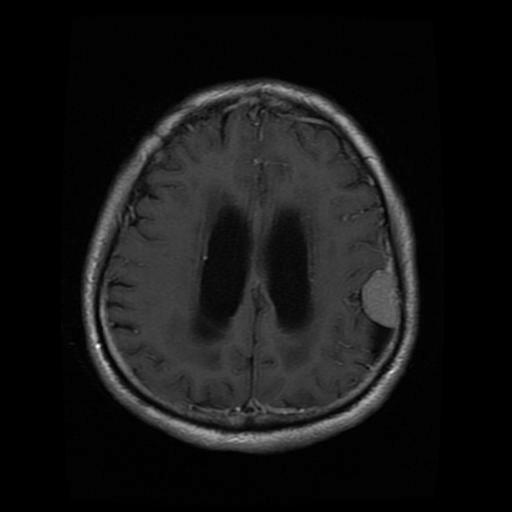Tumour-Meningioma: (336, 264, 414, 342)
